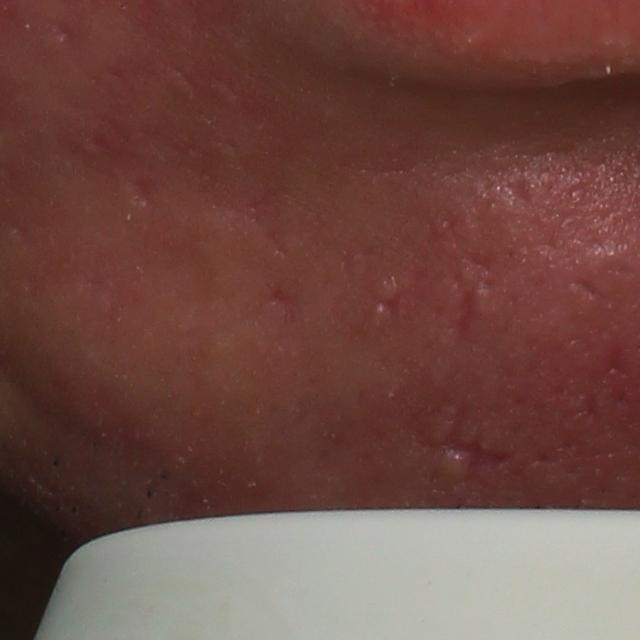atrophic_scar: (411, 389, 517, 487), (118, 173, 166, 214), (452, 279, 477, 343)
hypertrophic_scar: (435, 450, 475, 486), (469, 281, 498, 318), (368, 274, 399, 302), (368, 303, 391, 328)
